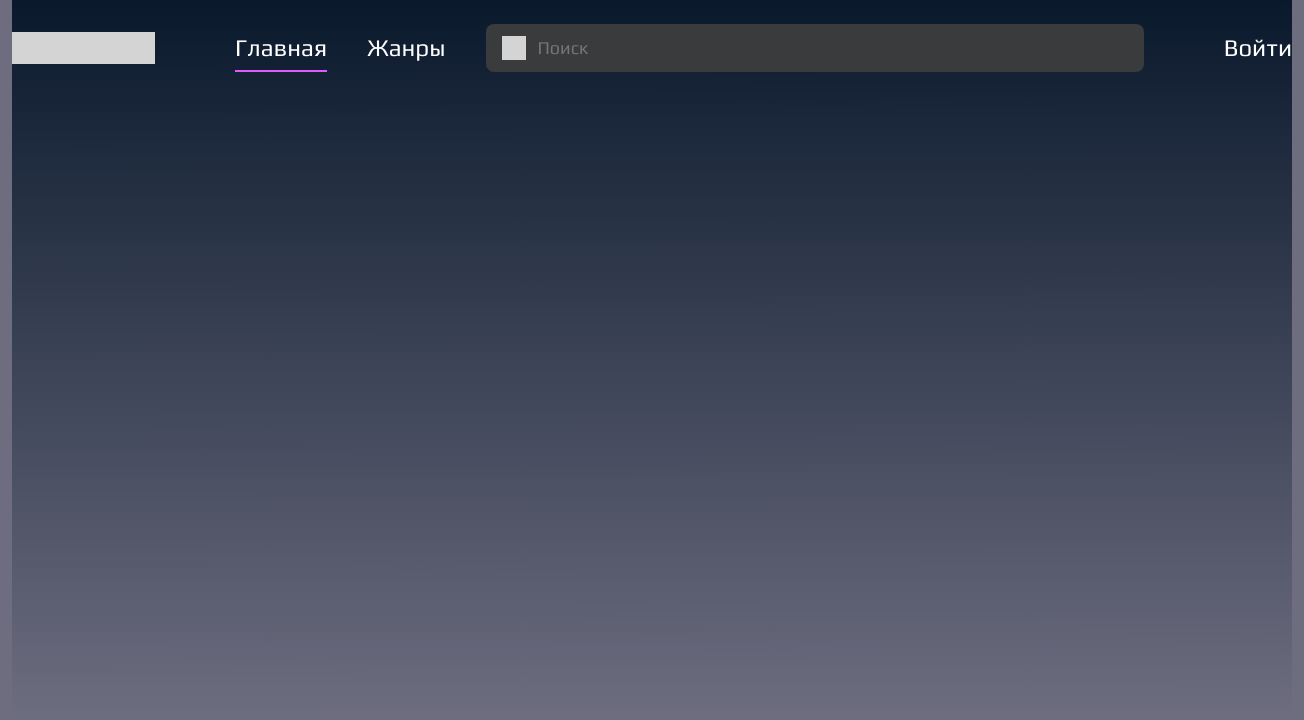
Test: Header Component › должен очищать поле ввода при клике на кнопку очистки
In the field with placeholder "Поиск": (815, 48) [486,24,1144,72], type "Matrix"
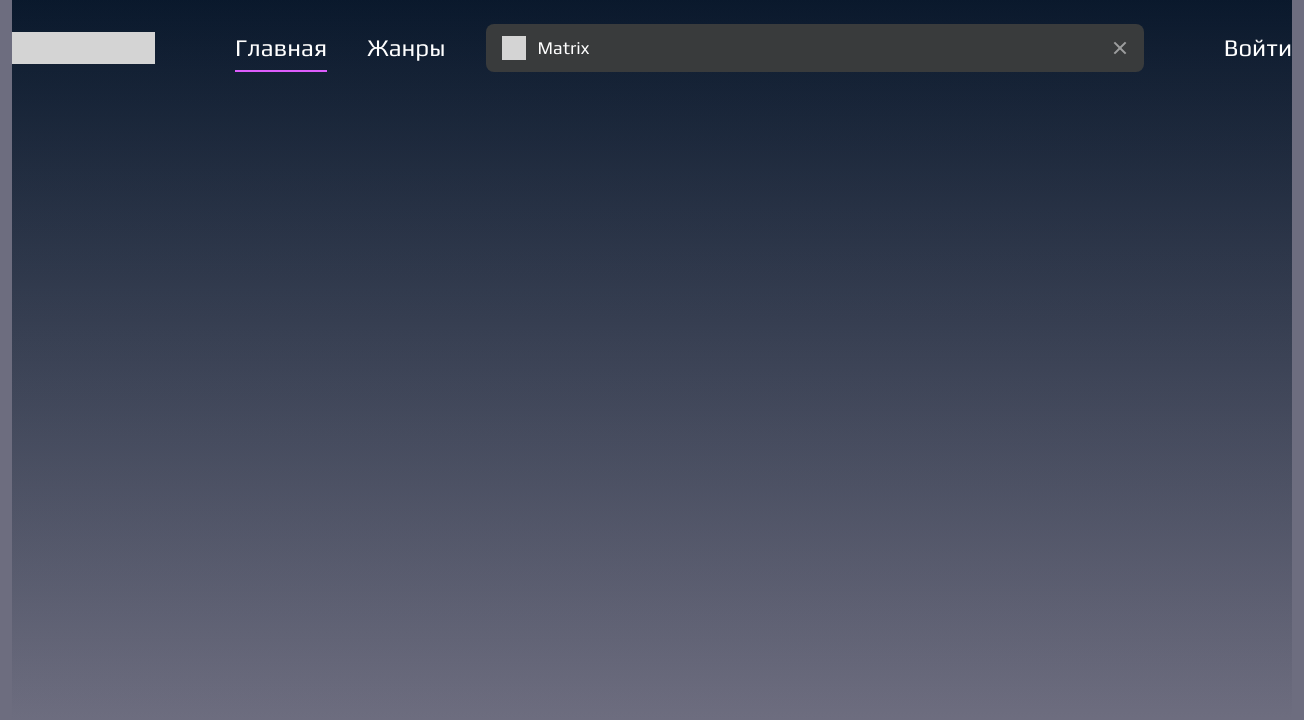
Click the button named "Очистить поиск": (1120, 48) [1104,32,1136,64]
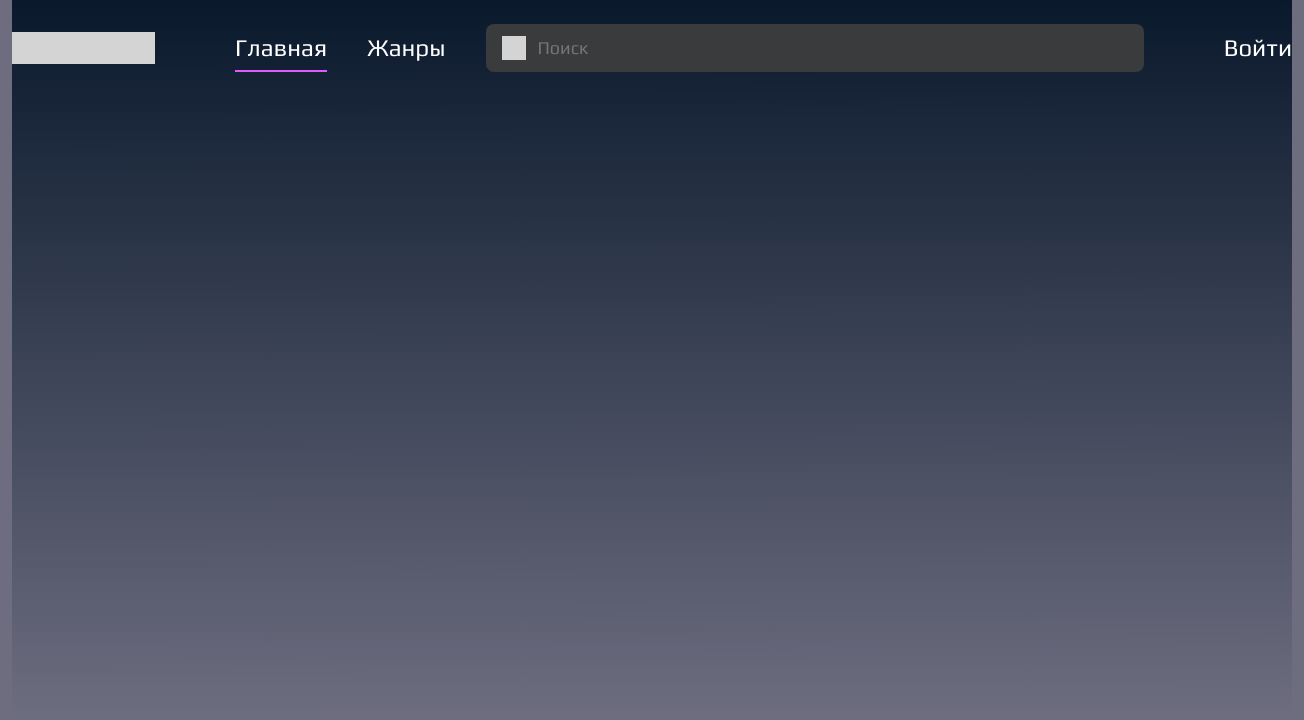
Expected: the field with placeholder "Поиск" is empty, [486,24,1144,72]
